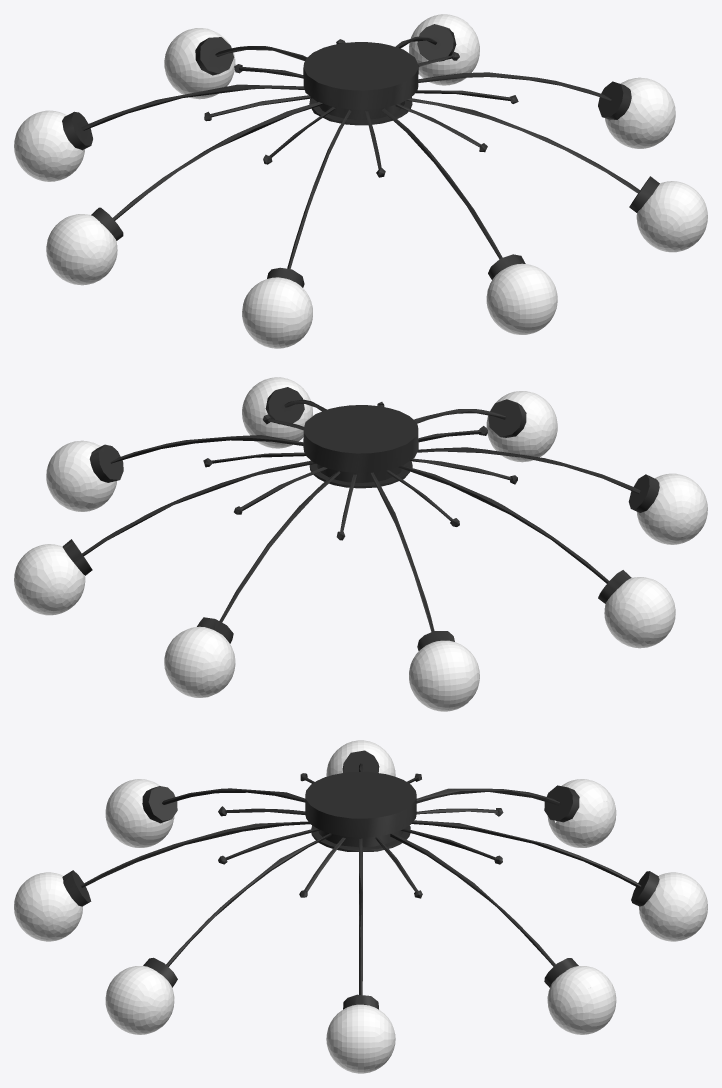
File: raw_model.obj
3 views of the same model, one above another, from view 1: azimuth 30°, elevation 25°; view 2: azimuth 150°, elevation 25°; view 3: azimuth 270°, elevation 25° (orthographic). The views are drawn at different scales.
Visible parts, largest first — view 1: solid_001, solid_002; view 2: solid_001, solid_002; view 3: solid_001, solid_002.
Boxes of the visible parts, x1,y1,x2,y2 form: solid_001: [14, 14, 707, 348]; solid_002: [62, 24, 659, 287]; solid_001: [14, 377, 707, 711]; solid_002: [62, 387, 659, 650]; solid_001: [14, 740, 707, 1073]; solid_002: [62, 750, 659, 1009].
Bounding box in the file's own units: 0.5656 × 0.1285 × 0.5656.
Materials: 1 (1 with a texture image).
